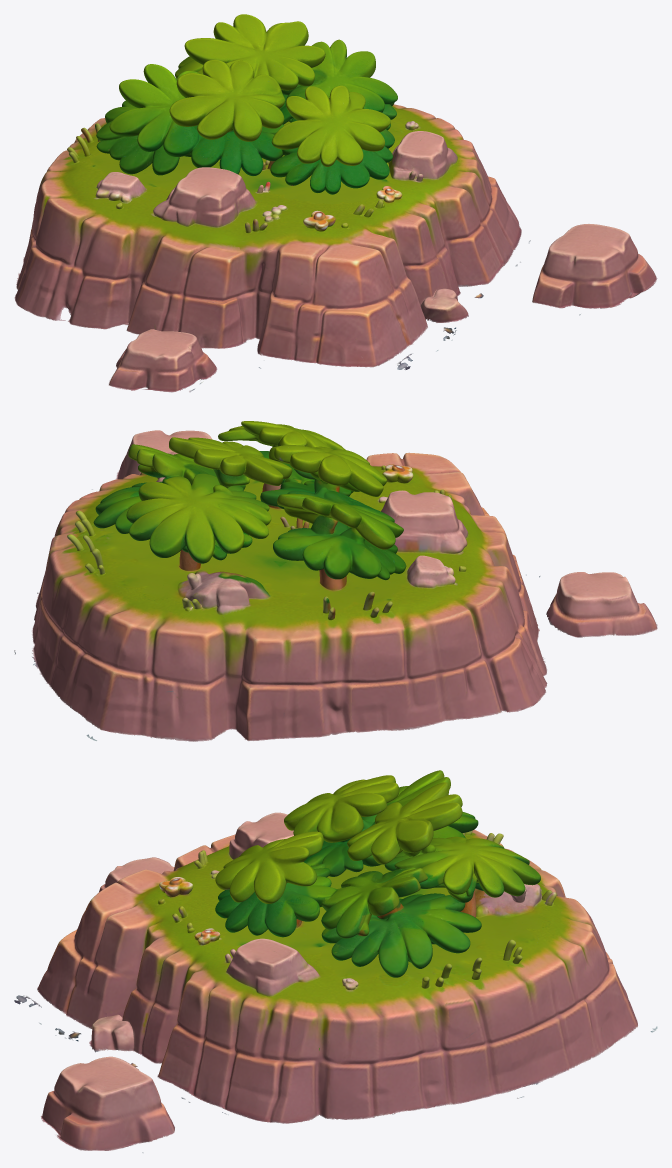
Rendered from low-shrub-islet-01.glb.
3 views of the same model, one above another, from view 1: azimuth 30°, elevation 25°; view 2: azimuth 150°, elevation 25°; view 3: azimuth 270°, elevation 25° (orthographic). The views are drawn at different scales.
Size of the model in its own units: 1.65 by 0.6075 by 1.61.
1 material, 1 textured.
